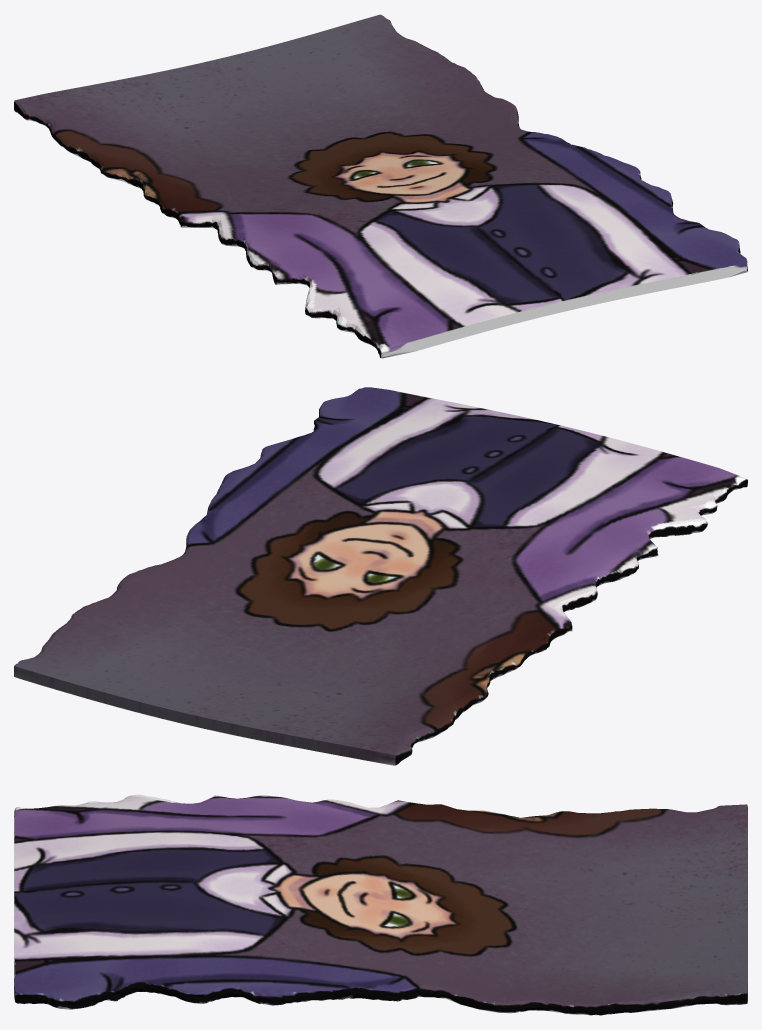
Rendered from Folhas2.obj.
The picture shows the model from 3 angles, top to bottom: view 1: azimuth 30°, elevation 25°; view 2: azimuth 150°, elevation 25°; view 3: azimuth 270°, elevation 25°; orthographic projection. The views are drawn at different scales.
Visible parts, largest first — view 1: Folha2; view 2: Folha2; view 3: Folha2.
Boxes of the visible parts, box(x1,y1,x2,y2) form: Folha2: box(14, 14, 747, 358); Folha2: box(14, 387, 747, 765); Folha2: box(14, 794, 747, 1015).
Size of the model in its own units: 0.6511 by 0.0719 by 1.
Materials: 1 (1 with a texture image).
